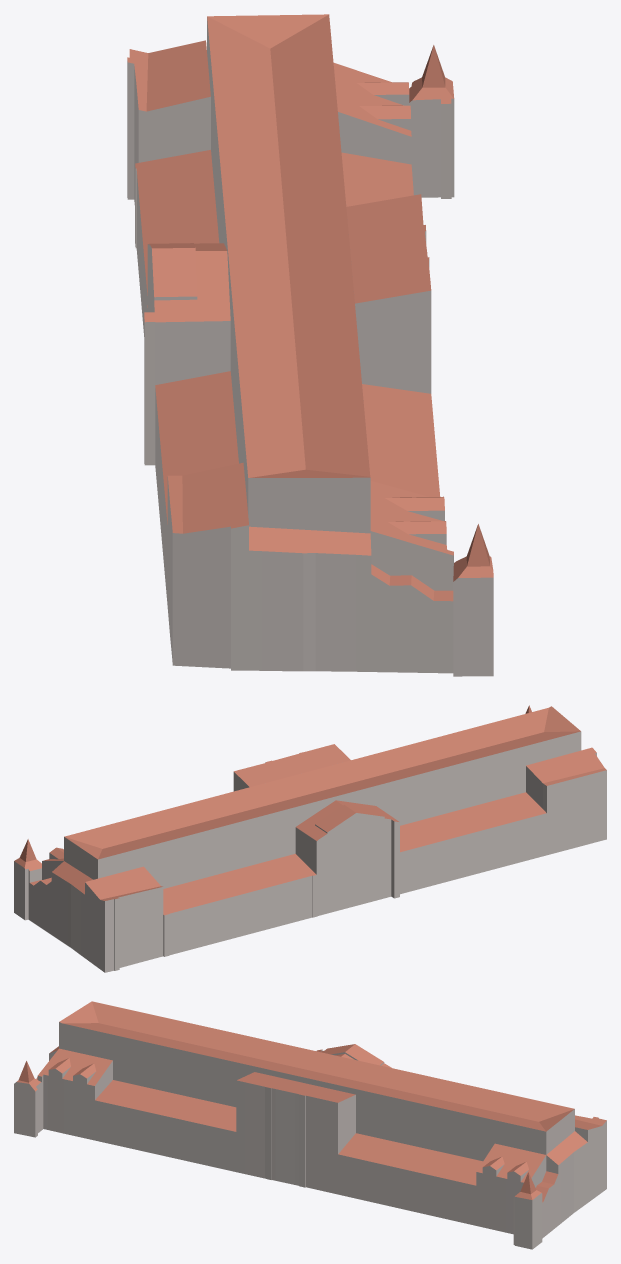
The model's file is cloth-hall.glb.
The picture shows the model from 3 angles, top to bottom: view 1: azimuth 30°, elevation 25°; view 2: azimuth 150°, elevation 25°; view 3: azimuth 270°, elevation 25°; orthographic projection. The views are drawn at different scales.
Visible parts, largest first — view 1: Cloth Hall; view 2: Cloth Hall; view 3: Cloth Hall.
Part boxes in pixels (<box>): Cloth Hall: <box>127,14,493,676</box>; Cloth Hall: <box>14,705,606,972</box>; Cloth Hall: <box>14,1001,606,1249</box>.
Bounding box in the file's own units: 77.51 × 19.31 × 113.
